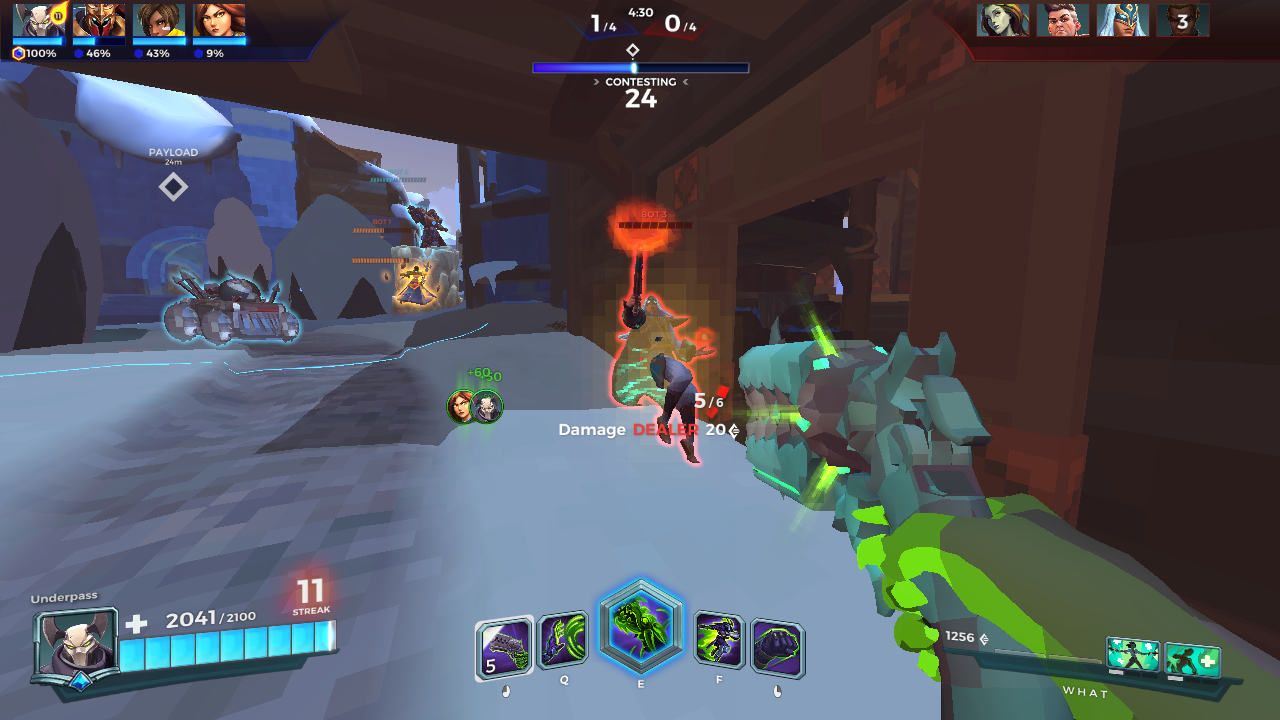model: (610, 264, 718, 474), (394, 256, 434, 316)
